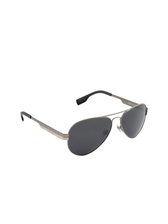glasses: (20, 90, 151, 159)
